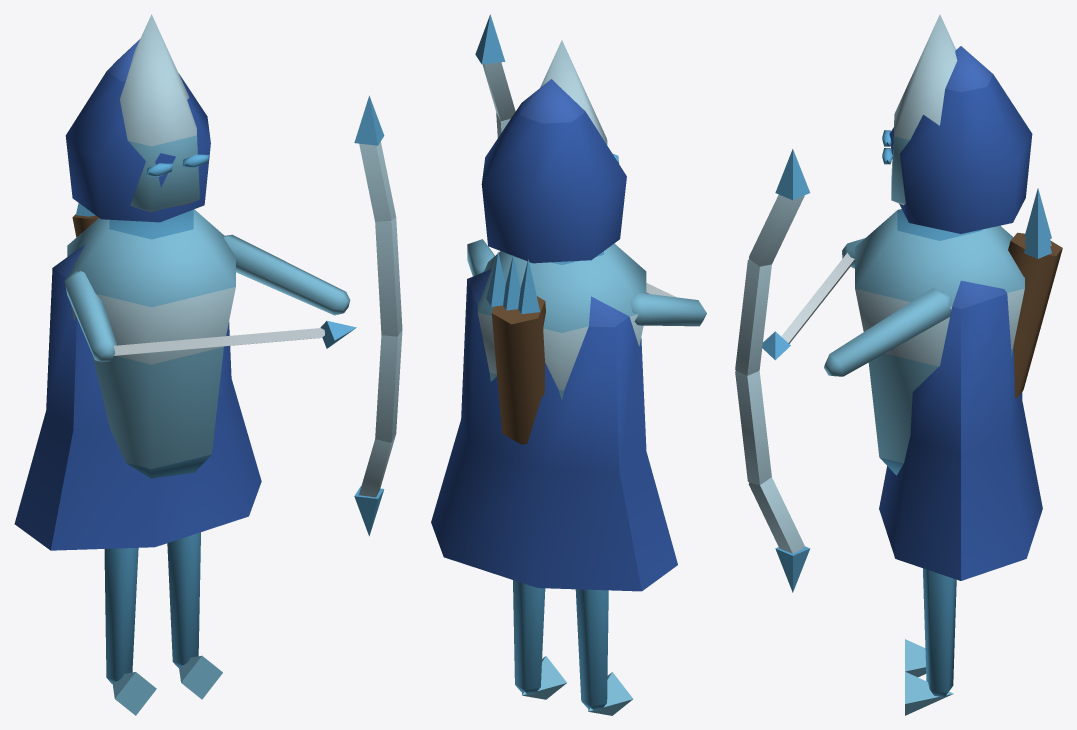
File: e_eis_kristallschuetze.glb
3 views of the same model, side by side, from view 1: azimuth 30°, elevation 25°; view 2: azimuth 150°, elevation 25°; view 3: azimuth 270°, elevation 25° (orthographic).
Parts seen in each view (by area): view 1: body; view 2: body; view 3: body.
Boxes of the visible parts, left/top/right/bottom form: body: left=14, top=14, right=402, bottom=715; body: left=431, top=14, right=706, bottom=715; body: left=735, top=14, right=1062, bottom=715.
Bounding box in the file's own units: 0.8904 × 2.16 × 0.9357.
